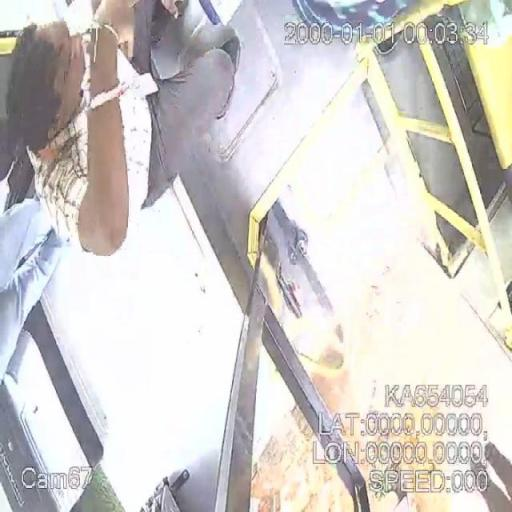persona: (0, 0, 280, 252)
